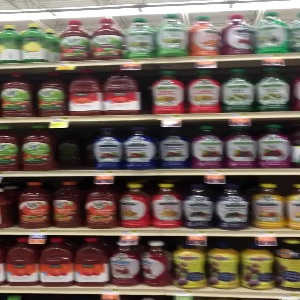void: (53, 122, 94, 170)
